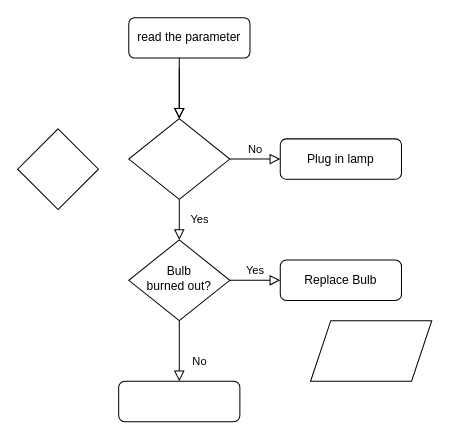
The diagram is 449 pixels wide and 439 high, and some of its shapes have lost their labels. The shapes that lost their labels are listed below. From the top down, each one's box as (x1, y1, x2, y2) in pixels, then its label:
(128, 118, 230, 199): Lamp plugged in?
(118, 380, 240, 422): Repair Lamp
